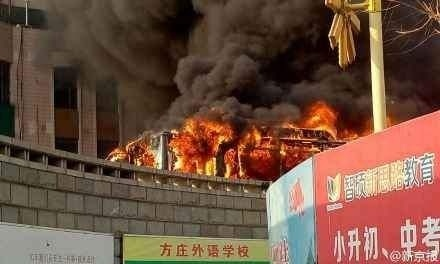fire: (97, 108, 353, 180)
